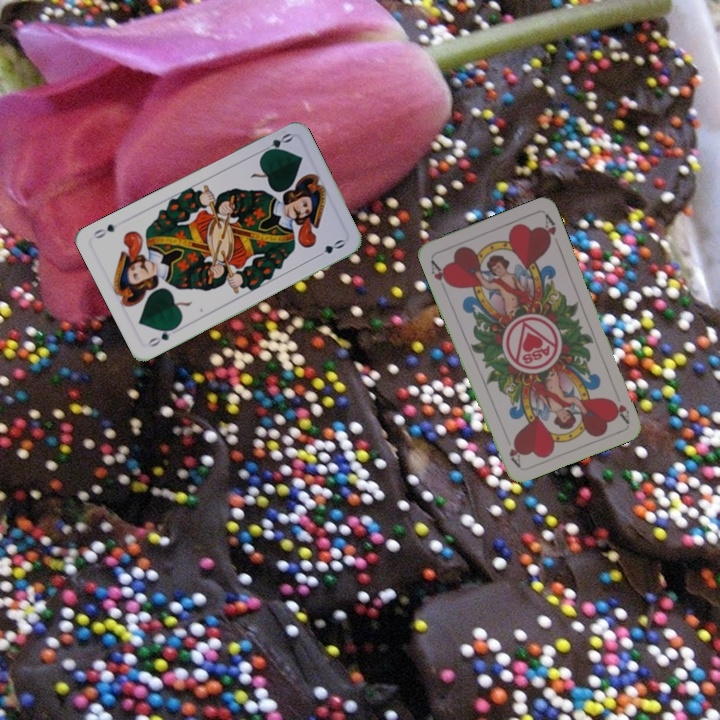GO: (256, 129, 295, 158), (143, 322, 180, 350)
HA: (427, 256, 453, 289), (607, 395, 632, 425)
